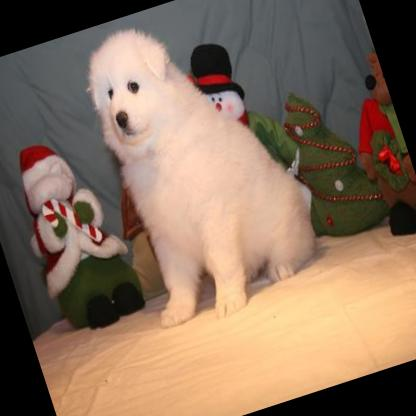Samoyed: (67, 0, 333, 339)
